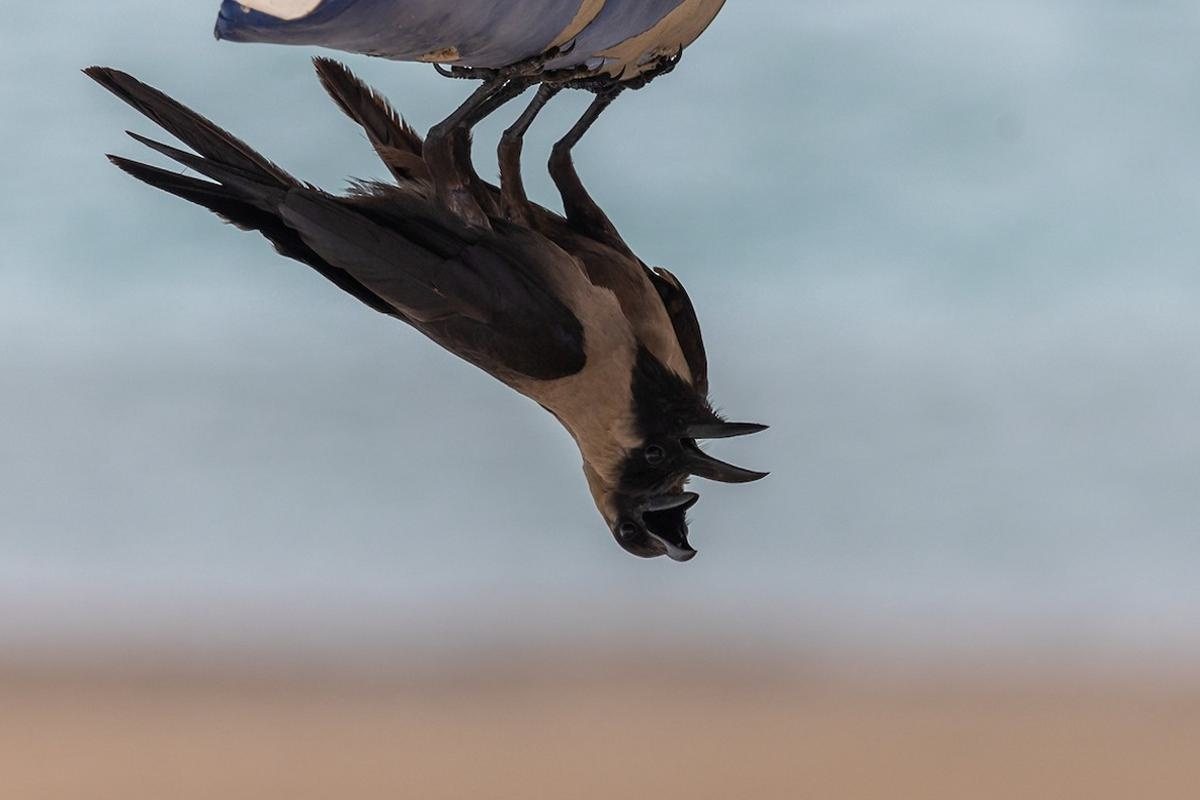crow: (188, 77, 718, 572), (183, 104, 808, 505)
